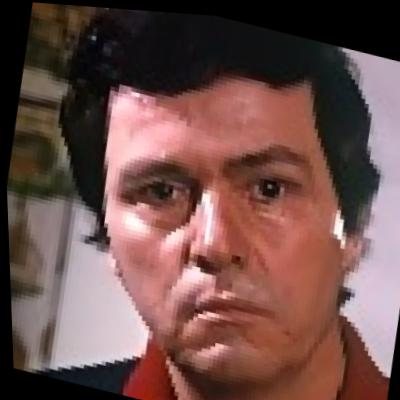sad: (67, 26, 383, 398)
